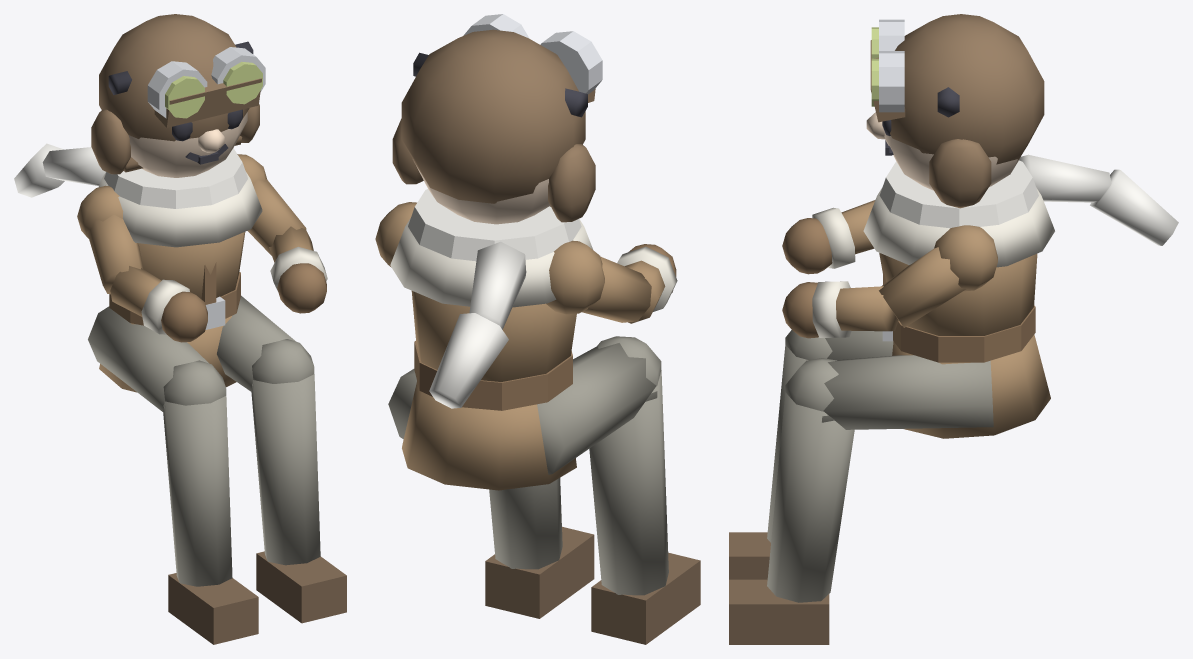
File: meeple_18_pilot.glb
3 renders of one model, left to right at view 1: azimuth 30°, elevation 25°; view 2: azimuth 150°, elevation 25°; view 3: azimuth 270°, elevation 25°, orthographic. The views are drawn at different scales.
Parts seen in each view (by area): view 1: meeple_18_pilot; view 2: meeple_18_pilot; view 3: meeple_18_pilot.
Part boxes in pixels (<box>): meeple_18_pilot: <box>14,14,346,644</box>; meeple_18_pilot: <box>375,14,700,644</box>; meeple_18_pilot: <box>729,14,1178,644</box>.
Bounding box in the file's own units: 0.5278 × 1.32 × 0.9191.
